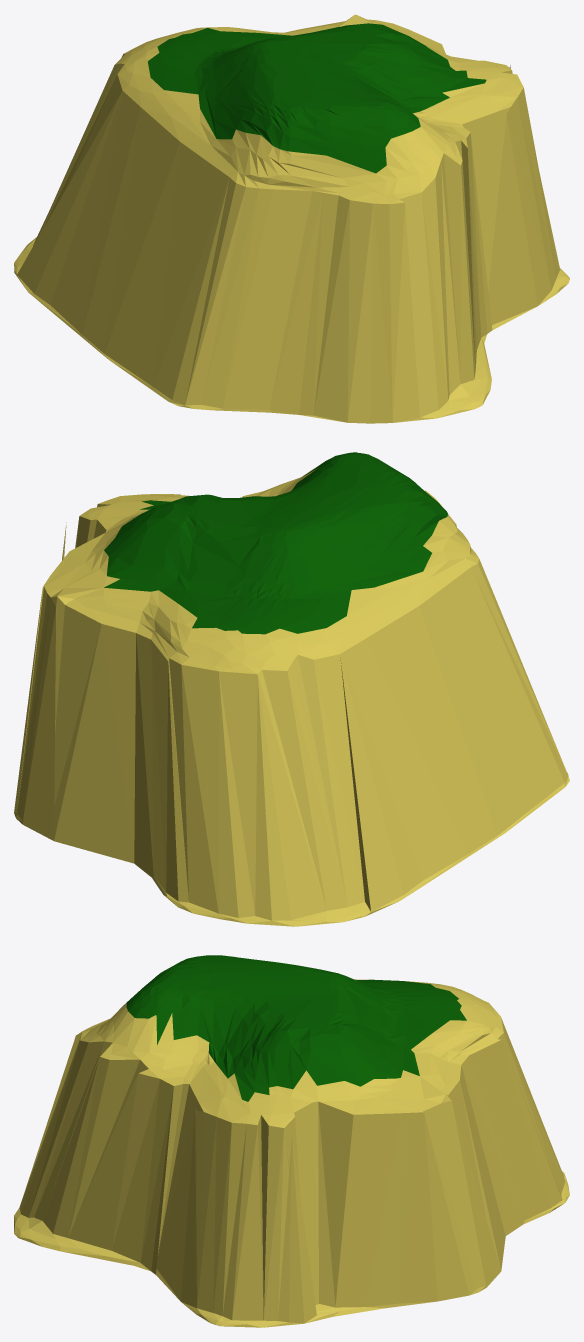
The model's file is Island2.FBX.
3 views of the same model, one above another, from view 1: azimuth 30°, elevation 25°; view 2: azimuth 150°, elevation 25°; view 3: azimuth 270°, elevation 25° (orthographic). The views are drawn at different scales.
Parts seen in each view (by area): view 1: Sphere004; view 2: Sphere004; view 3: Sphere004.
Boxes of the visible parts, left/top/right/bottom form: Sphere004: left=14, top=14, right=569, bottom=423; Sphere004: left=14, top=452, right=569, bottom=926; Sphere004: left=14, top=955, right=569, bottom=1327.
Size of the model in its own units: 562 by 667 by 320.
